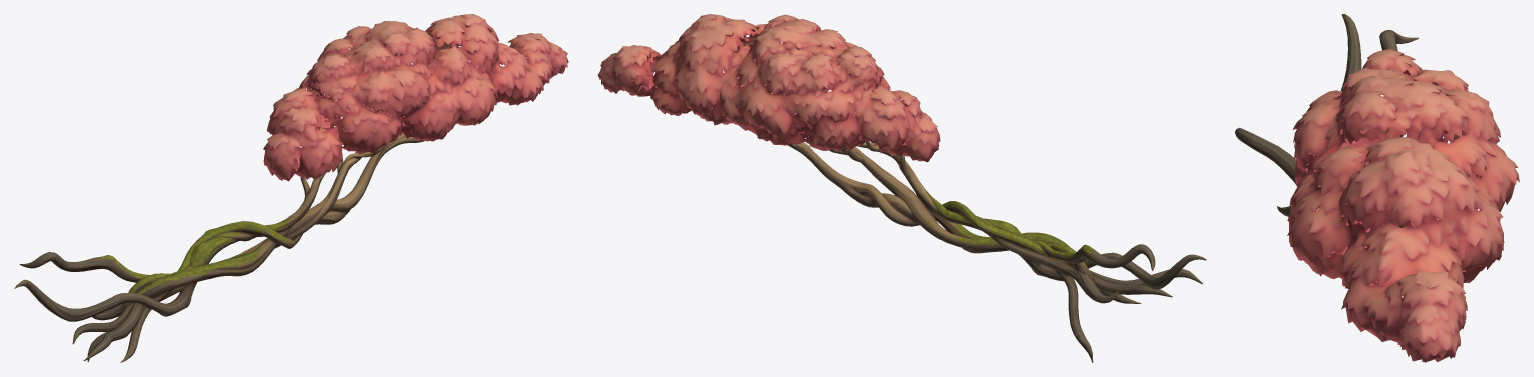
Rendered from sky_tree_02c.glb.
3 renders of one model, left to right at view 1: azimuth 30°, elevation 25°; view 2: azimuth 150°, elevation 25°; view 3: azimuth 270°, elevation 25°, orthographic. The views are drawn at different scales.
Parts seen in each view (by area): view 1: tree_02c; view 2: tree_02c; view 3: tree_02c.
Boxes of the visible parts, bbox=[...] form: tree_02c: bbox=[14, 14, 568, 362]; tree_02c: bbox=[597, 14, 1206, 362]; tree_02c: bbox=[1235, 14, 1519, 362].
Size of the model in its own units: 17.2 by 7.47 by 4.64.
2 materials, 2 textured.
